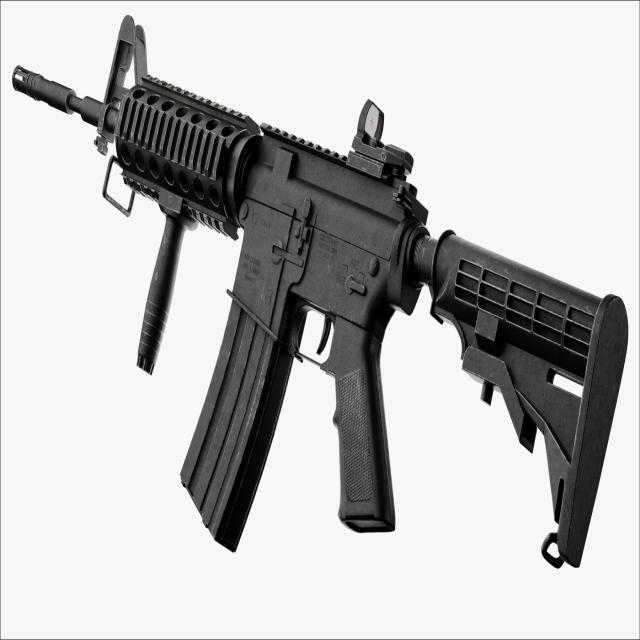Rifle: (11, 16, 631, 570)
